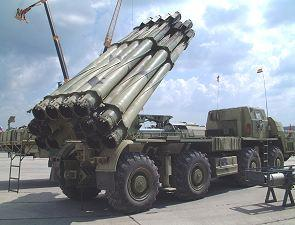MIL_SAM_TEL: (28, 11, 295, 212)
